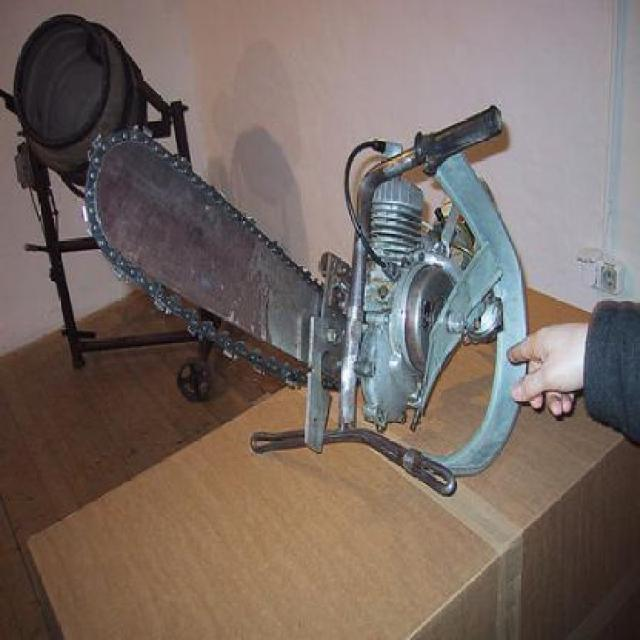Chainsaw: (75, 112, 543, 485)
